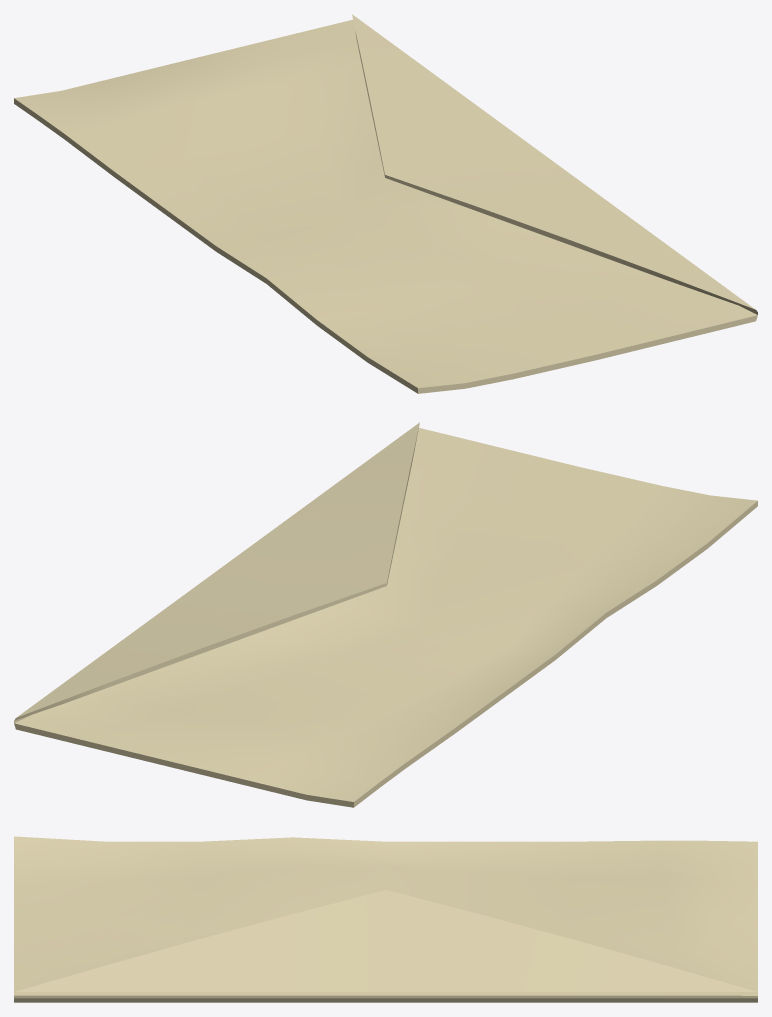
The model's file is LetterClosed.fbx.
3 renders of one model, top to bottom at view 1: azimuth 30°, elevation 25°; view 2: azimuth 150°, elevation 25°; view 3: azimuth 270°, elevation 25°, orthographic. The views are drawn at different scales.
Visible parts, largest first — view 1: Plane.001; view 2: Plane.001; view 3: Plane.001.
Boxes of the visible parts, x1,y1,x2,y2 form: Plane.001: [14, 14, 757, 393]; Plane.001: [14, 422, 757, 807]; Plane.001: [14, 836, 757, 1002].
Size of the model in its own units: 65.53 by 7.35 by 135.
